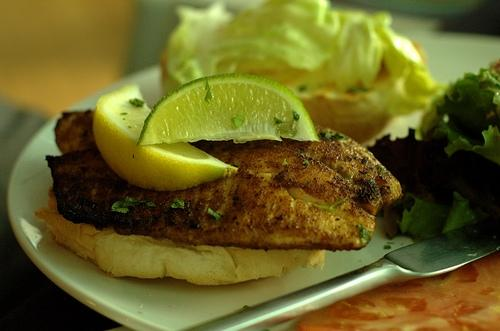lemon: (92, 85, 238, 192), (136, 72, 322, 146)
lettuce: (367, 119, 500, 240)
lime: (136, 73, 322, 146)
tomato: (297, 249, 500, 331)
